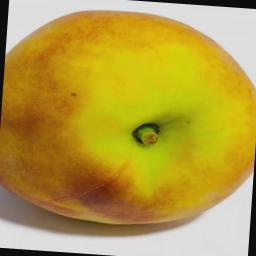Peach Unripe: (0, 3, 256, 238)
